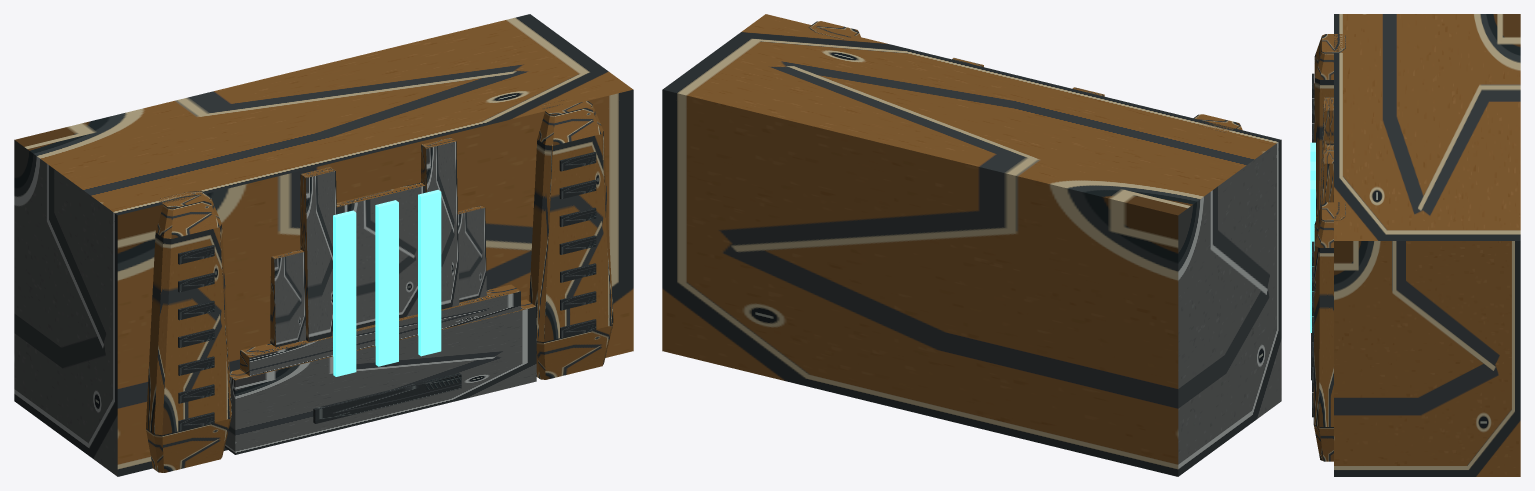
File: portable_generator.glb
The picture shows the model from 3 angles, left to right: view 1: azimuth 30°, elevation 25°; view 2: azimuth 150°, elevation 25°; view 3: azimuth 270°, elevation 25°; orthographic projection. The views are drawn at different scales.
Parts seen in each view (by area): view 1: STProp_portable_generator_Body; view 2: STProp_portable_generator_Body; view 3: STProp_portable_generator_Body.
Part boxes in pixels (x1,y1,x2,y2): STProp_portable_generator_Body: (14, 14, 633, 476); STProp_portable_generator_Body: (662, 14, 1281, 476); STProp_portable_generator_Body: (1310, 14, 1520, 476).
Bounding box in the file's own units: 5.82 × 2.82 × 2.27.
Materials: 5 (4 with a texture image).
